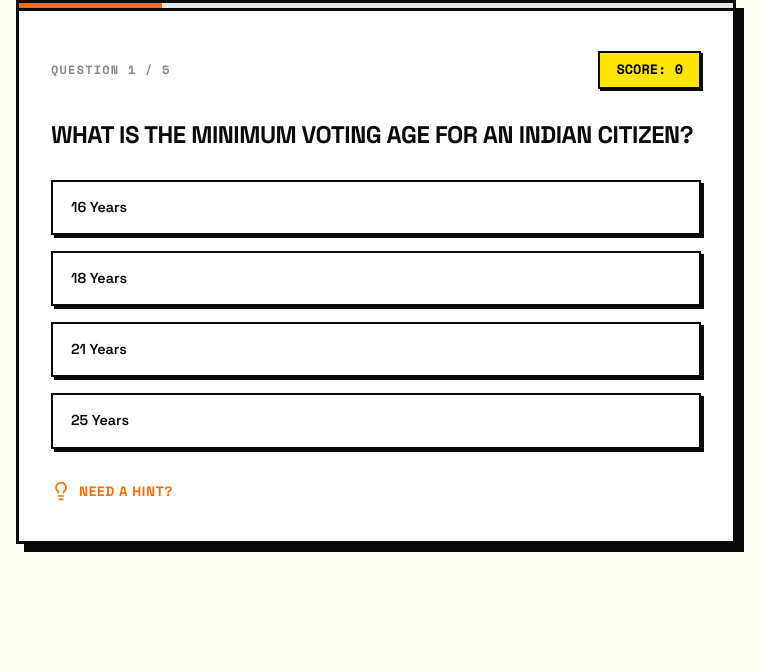
Test: Quiz Component — Hint Feature › handles hint API errors gracefully
Step 1. Click the button "NEED A HINT?" → {"x": 112, "y": 491}, box [51, 480, 173, 502]
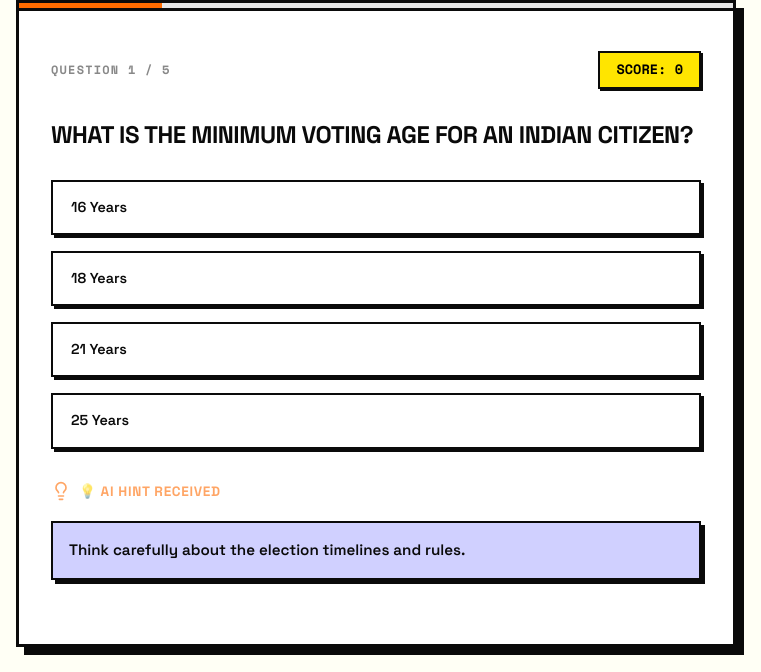
Now the button "💡 AI HINT RECEIVED" is shown, box [51, 480, 221, 502]
Now the text "Think carefully about the election timelines and rules." is shown, box [51, 521, 701, 580]
